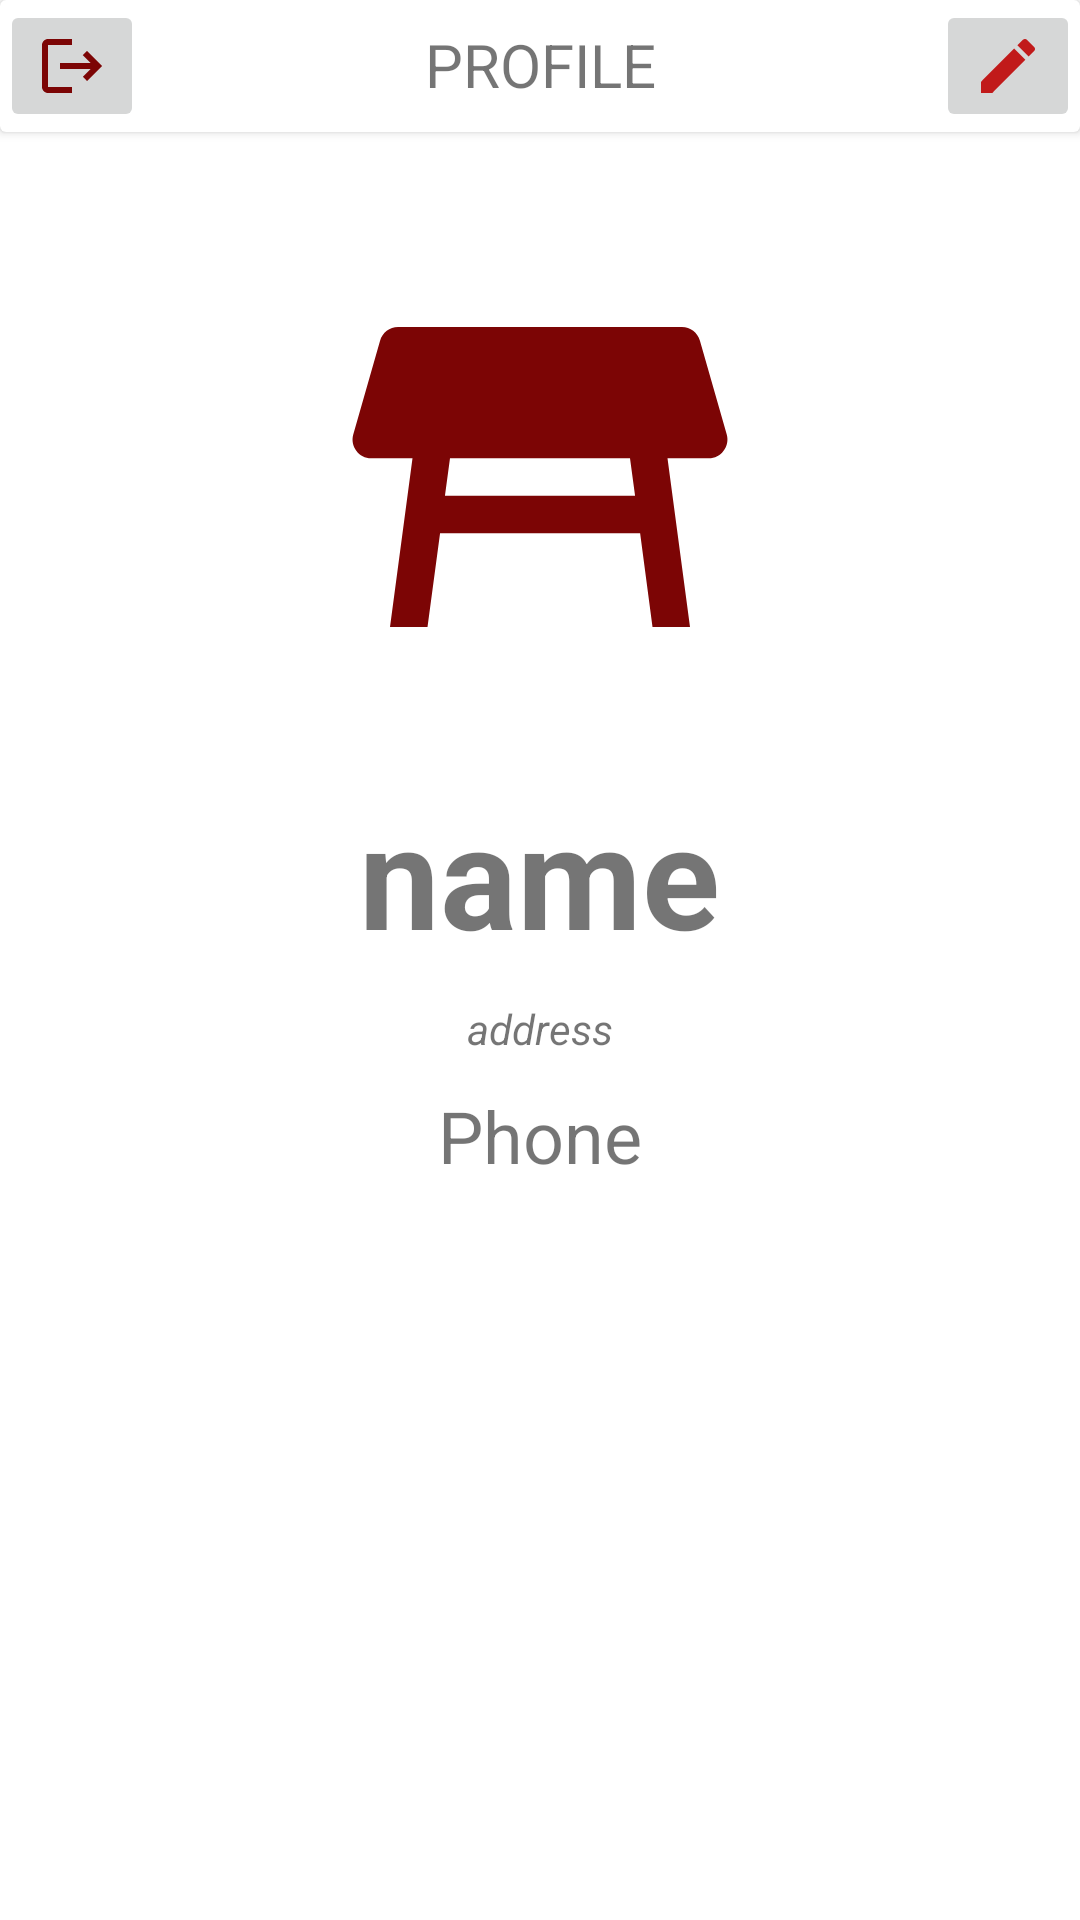

Locate icon controls on the screen. Image size 1080*1920, boxes as box=[x1, y1, x2, y2].
edit: box=[948, 1, 1080, 132]
